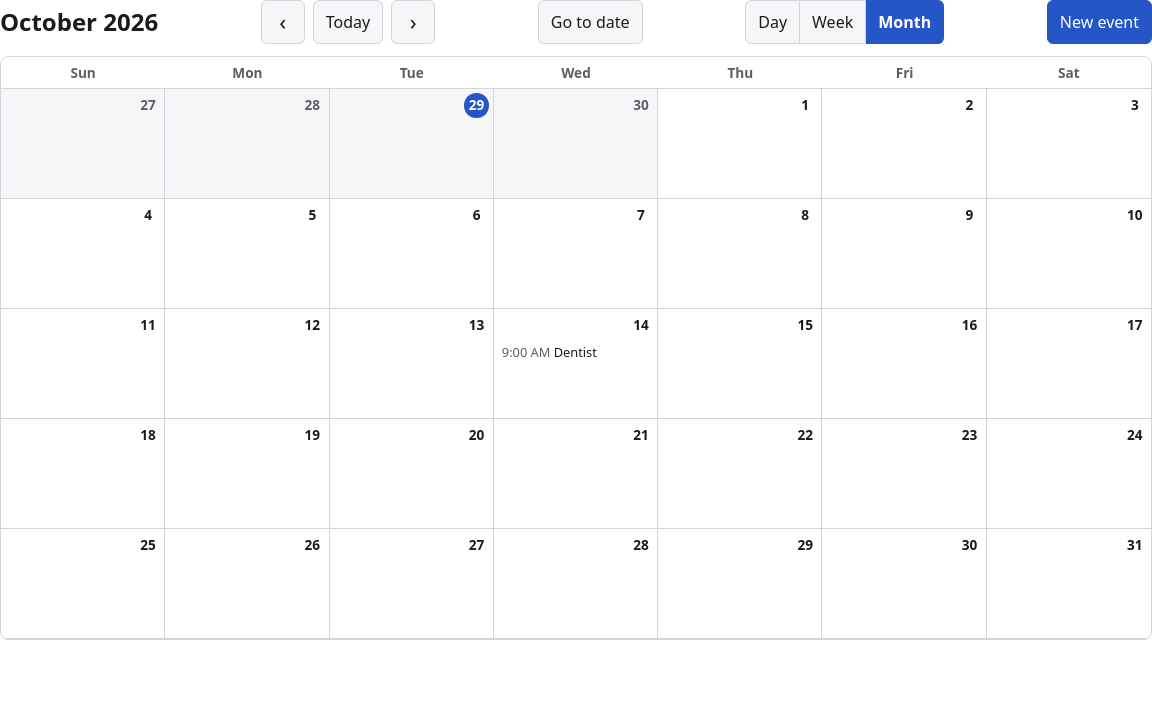
Test case: Deleting an event (US3) › asks for confirmation with focus on Cancel, and Cancel keeps the event
The width and height of the screenshot is (1152, 720).
Click the button with aria-label "Dentist," at [575, 352], box [498, 342, 653, 362]
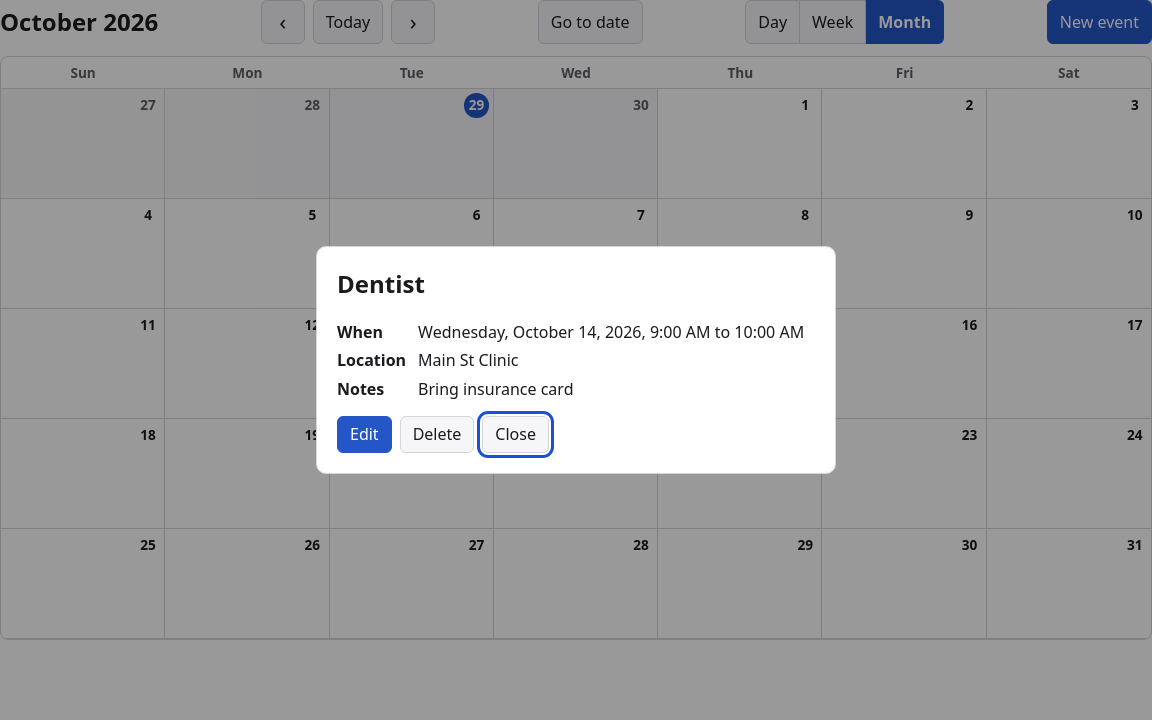
Click the button "Delete" at [437, 434], box [400, 416, 474, 452]
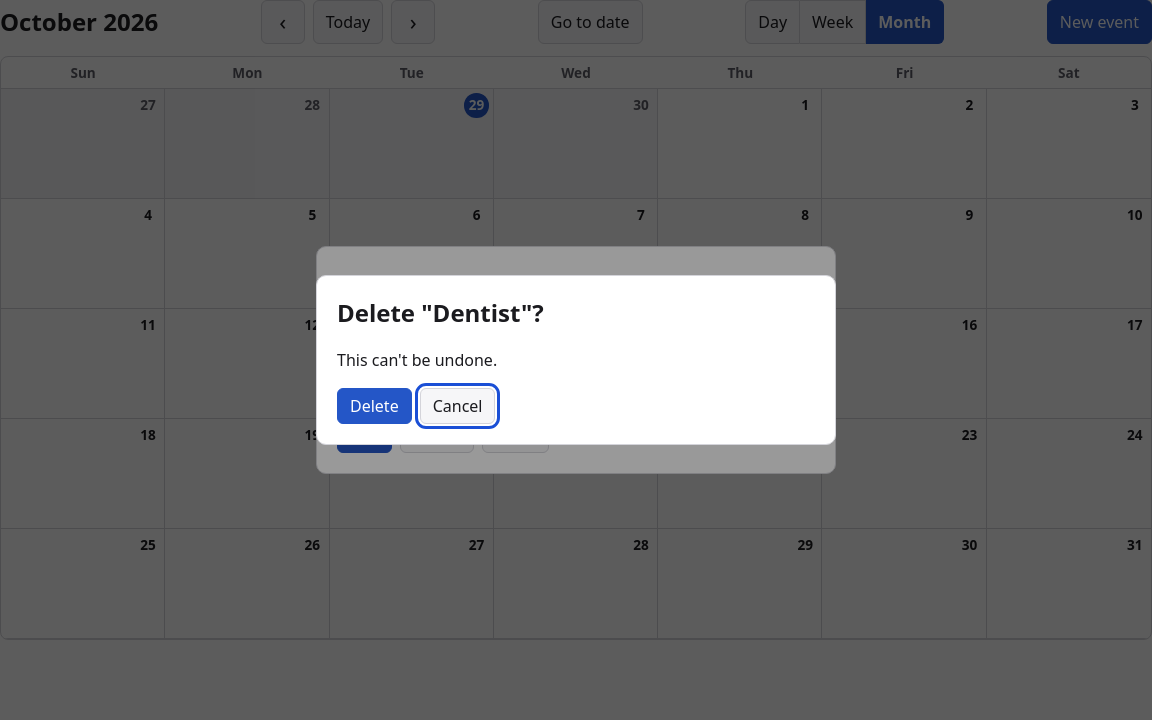
Click the button "Cancel" at [458, 406], box [420, 388, 496, 424]
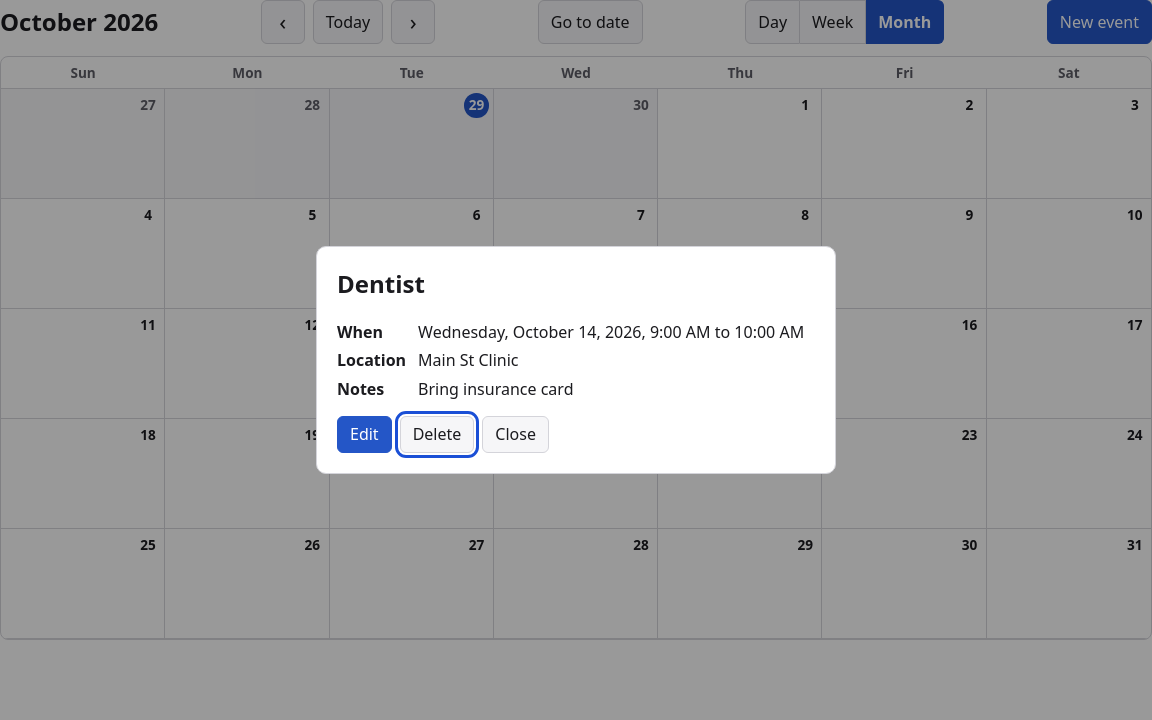
Result: the dialog "Dentist" is shown at [316, 246, 836, 474]
Result: the heading "Delete \"Dentist\"?" is gone
